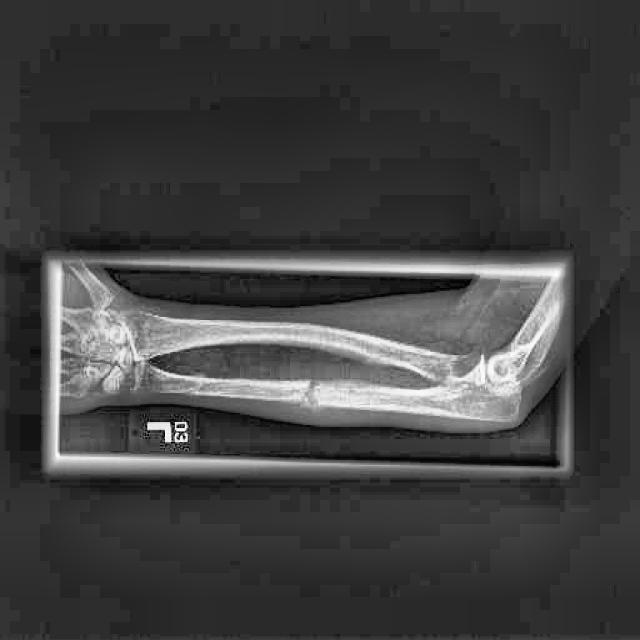forearm fracture: (284, 365, 345, 424), (181, 367, 235, 405)
